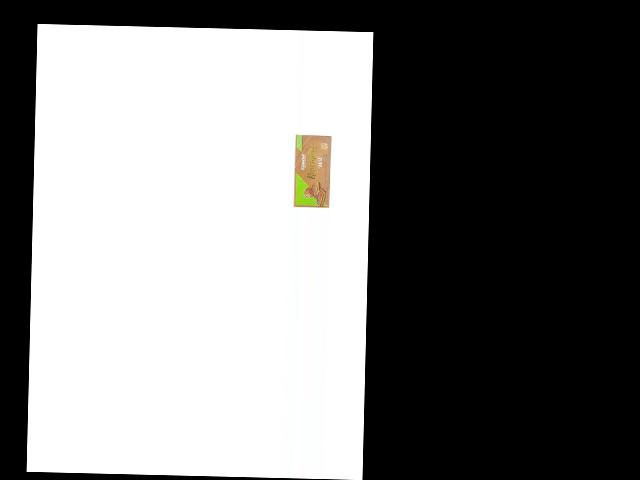chocolate: (292, 131, 334, 209)
